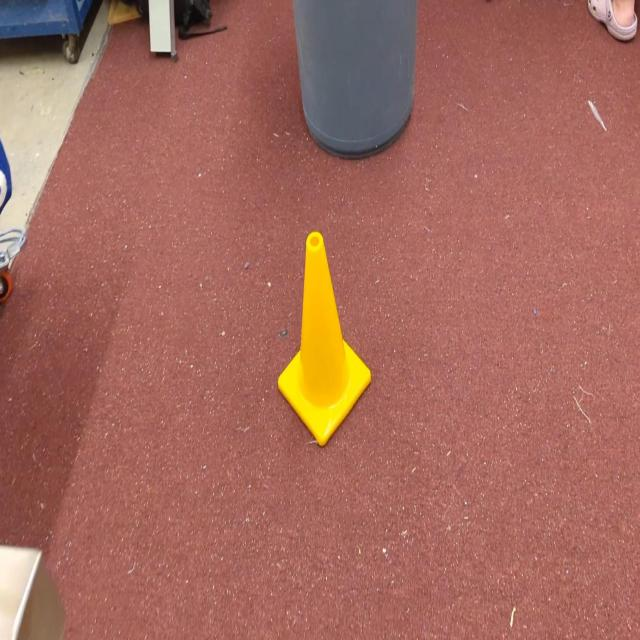frc_cone: (278, 231, 374, 448)
